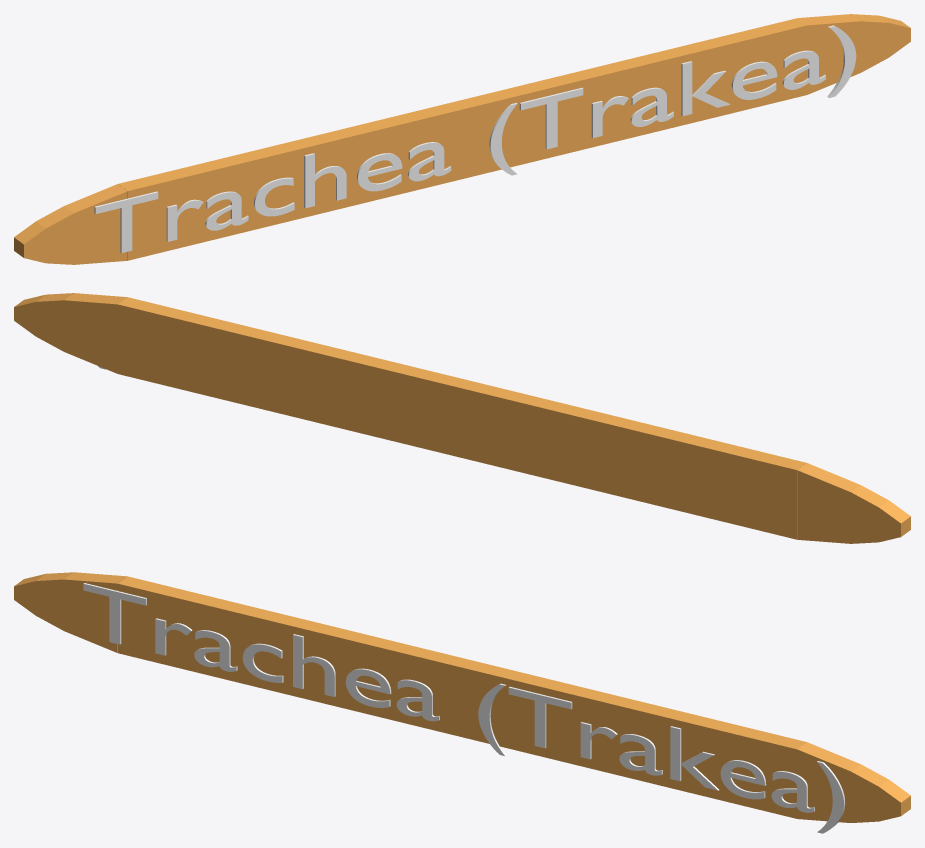
Rendered from txtTrachea.fbx.
3 views of the same model, one above another, from view 1: azimuth 30°, elevation 25°; view 2: azimuth 150°, elevation 25°; view 3: azimuth 330°, elevation 25° (orthographic).
Parts seen in each view (by area): view 1: TagContainer.079, Text.080; view 2: TagContainer.079; view 3: TagContainer.079, Text.080.
Part boxes in pixels (left/top/right/bottom): TagContainer.079: left=14, top=14, right=910, bottom=264; Text.080: left=94, top=25, right=856, bottom=253; TagContainer.079: left=14, top=293, right=910, bottom=543; TagContainer.079: left=14, top=572, right=910, bottom=822; Text.080: left=83, top=583, right=845, bottom=833.
Size of the model in its own units: 551 by 45.66 by 11.92.
